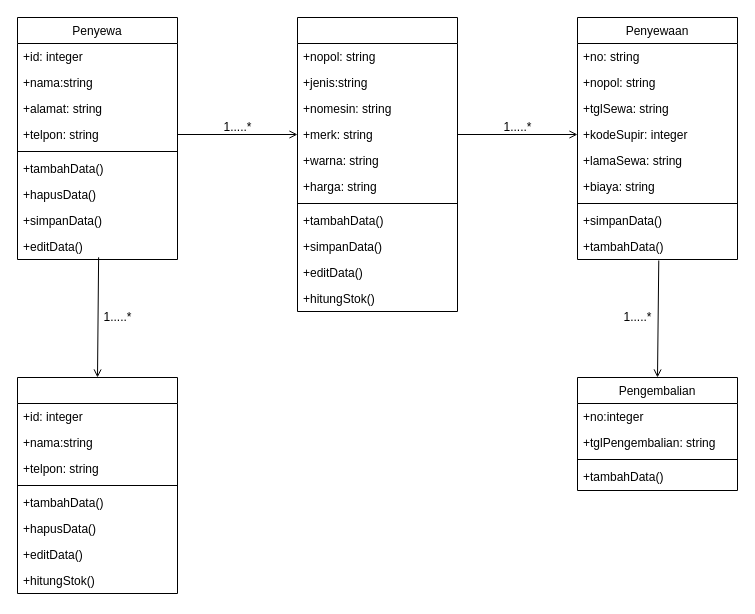
The diagram is 755 pixels wide and 614 high, and some of its shapes have lost their labels. The shapes that lost their labels are listed below. From the top down, each one's box as (x1, y1, x2, y2) in pixels, then its label:
(296, 16, 458, 312): Kendaraan
(16, 376, 178, 594): Supir
